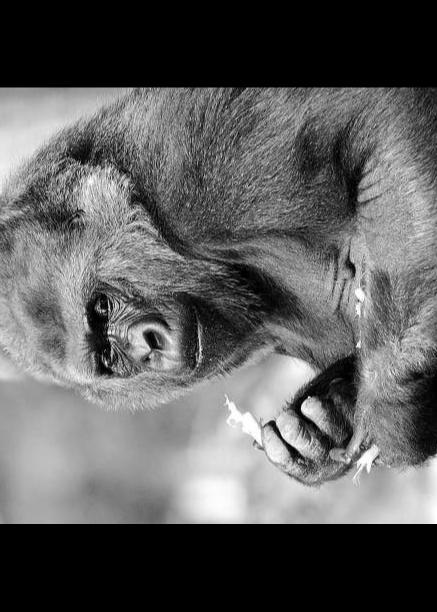gorille_Autres: (0, 88, 437, 519)
